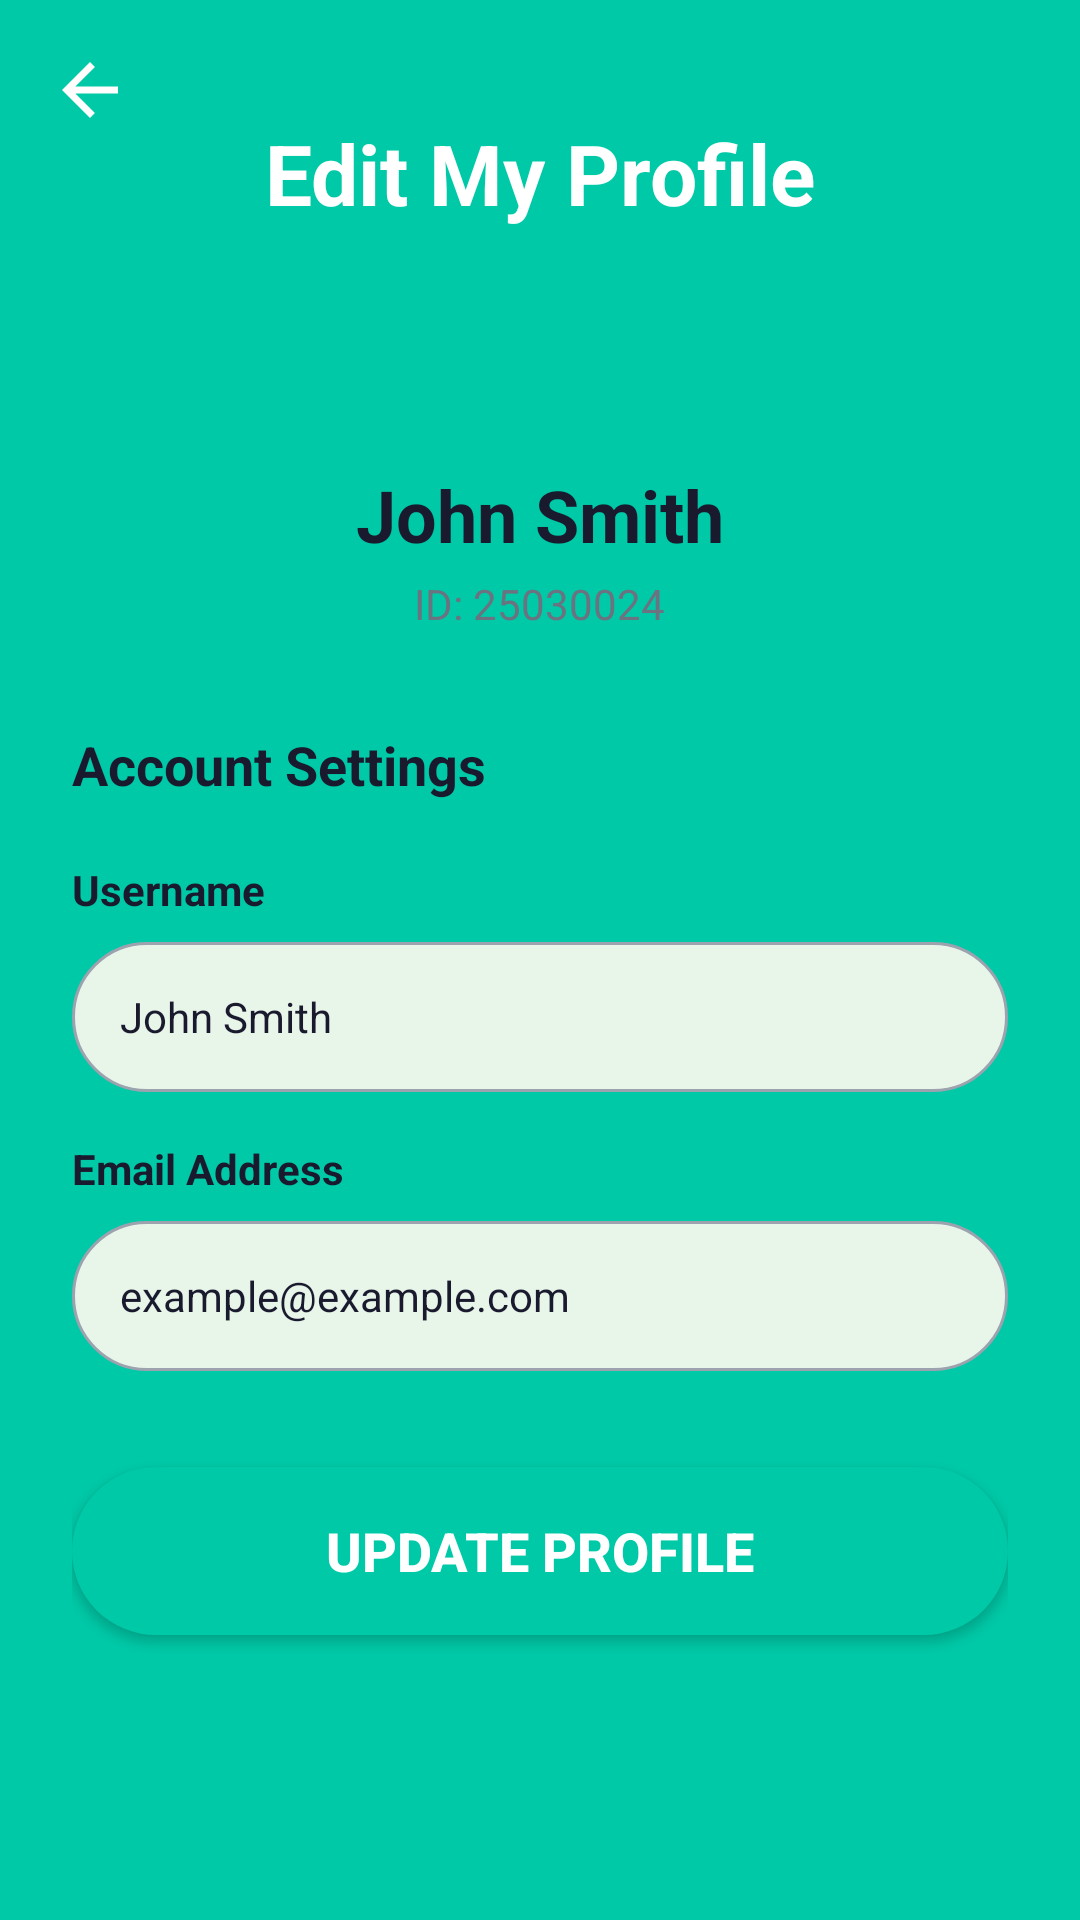

Screen size 1080w x 1920h. Icon name, then its center in pixels as [x,y]:
Back: [90,90]
